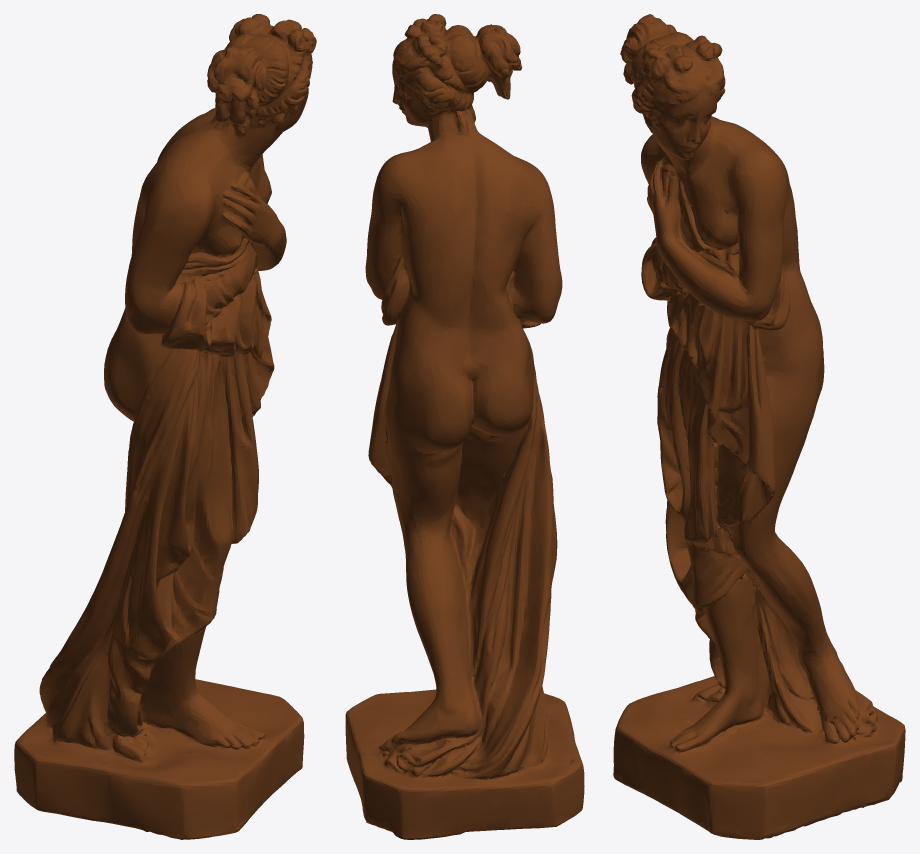
Rendered from bronze-woman.mobile.glb.
3 views of the same model, side by side, from view 1: azimuth 30°, elevation 25°; view 2: azimuth 150°, elevation 25°; view 3: azimuth 270°, elevation 25° (orthographic). The views are drawn at different scales.
Visible parts, largest first — view 1: bronze-woman | Aged bronze; view 2: bronze-woman | Aged bronze; view 3: bronze-woman | Aged bronze.
Part boxes in pixels (left/top/right/bottom): bronze-woman | Aged bronze: left=14, top=14, right=316, bottom=839; bronze-woman | Aged bronze: left=345, top=14, right=584, bottom=839; bronze-woman | Aged bronze: left=613, top=14, right=905, bottom=839.
Bounding box in the file's own units: 0.731 × 2.15 × 0.7333.
1 material, 1 textured.
